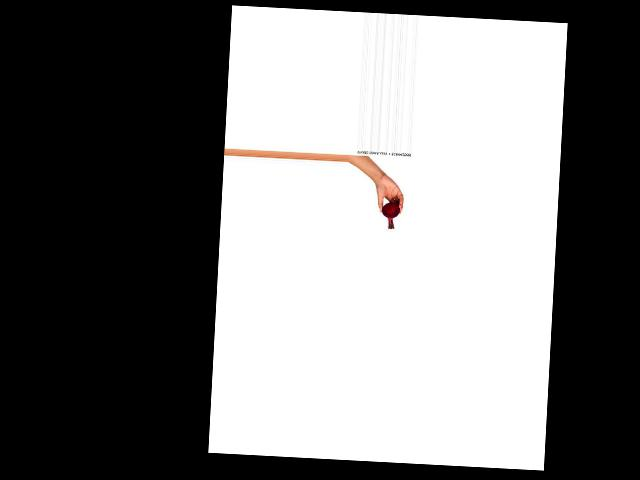beet: (381, 202, 400, 229)
